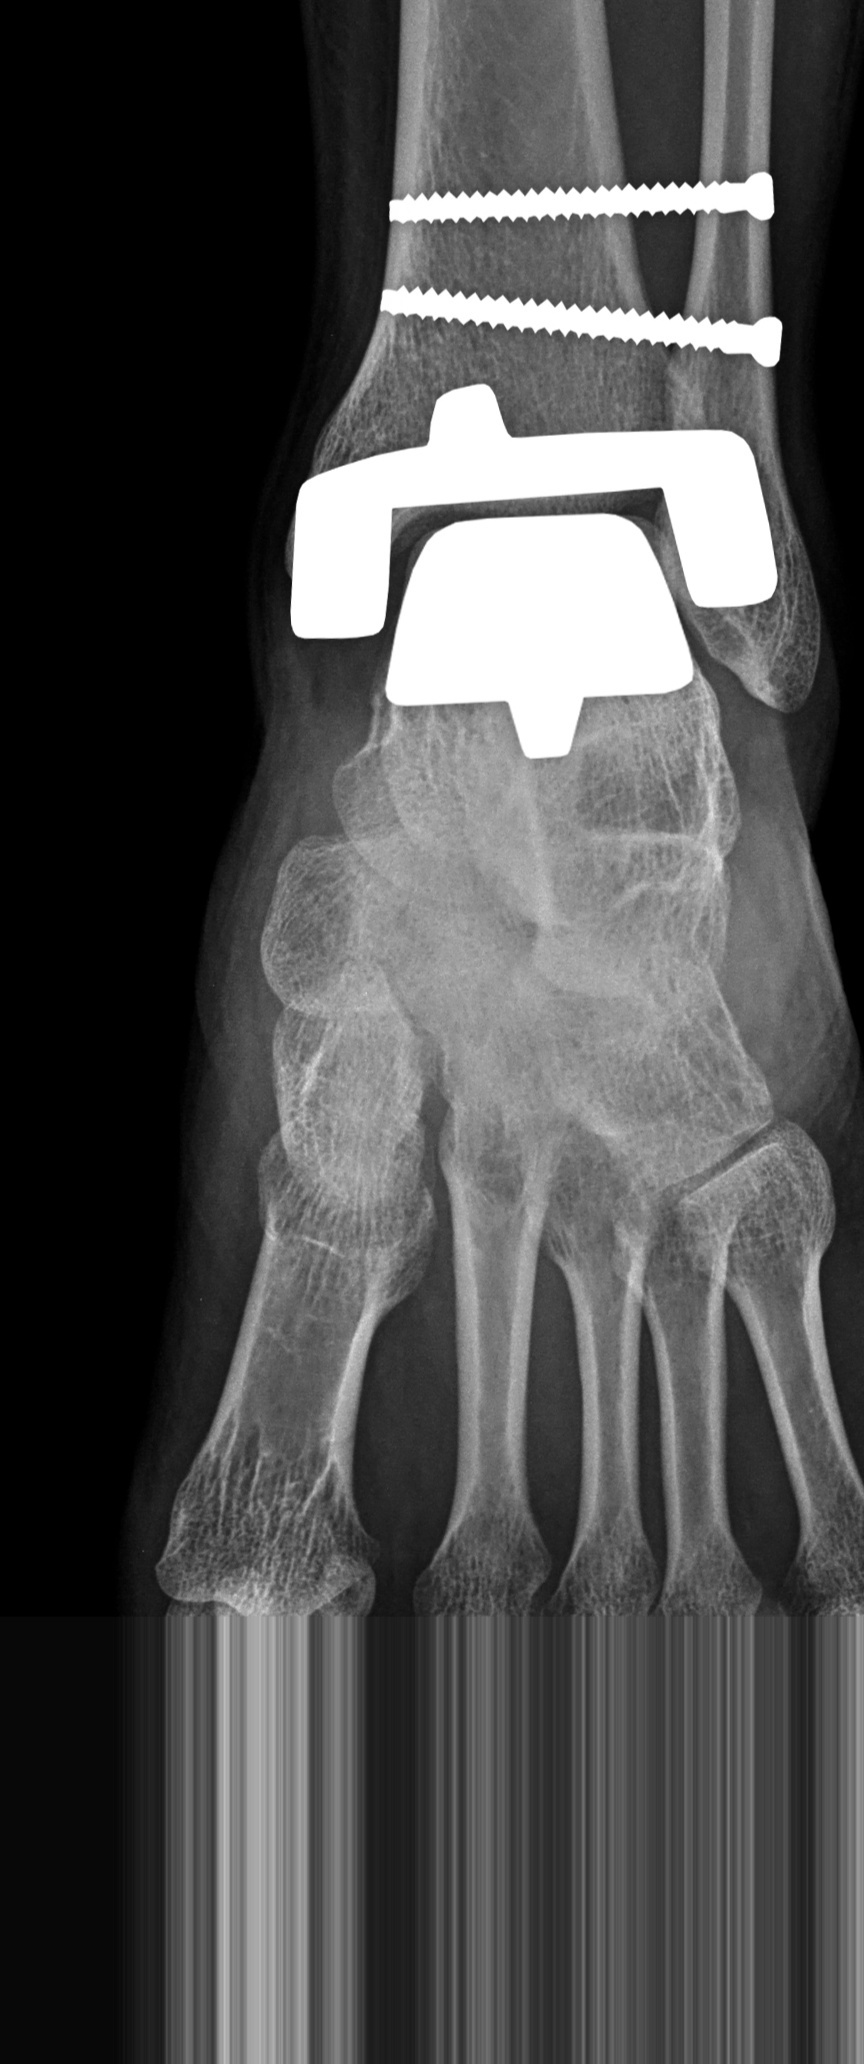Ankle - Agility - DePuy: (242, 161, 819, 782)
